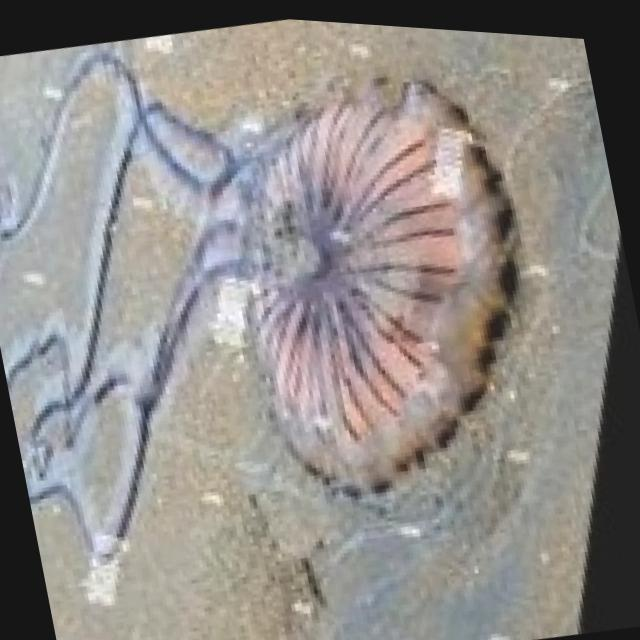Jellyfish: (0, 0, 568, 603)
